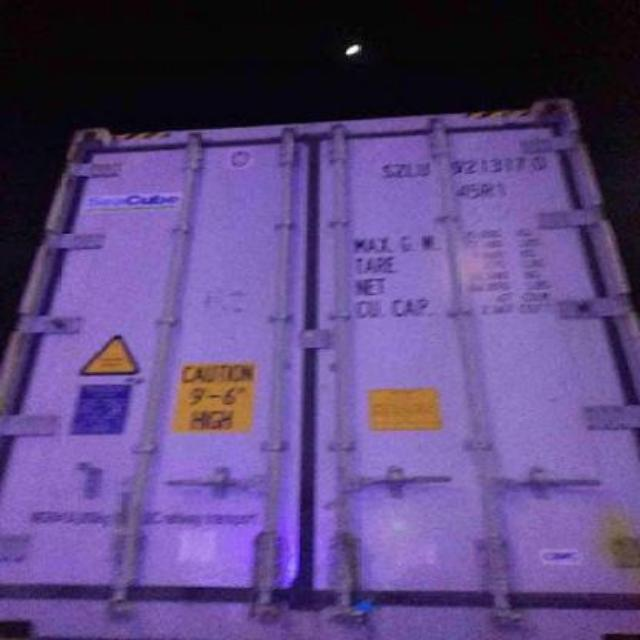0: (534, 154, 548, 170)
2: (502, 156, 516, 174), (464, 160, 478, 172)
3: (491, 158, 504, 172)
4: (478, 156, 492, 174)
7: (516, 154, 528, 172)
9: (451, 156, 464, 174)
L: (408, 160, 418, 176)
S: (380, 164, 396, 176)
U: (418, 158, 434, 180)
Z: (396, 162, 406, 178)
